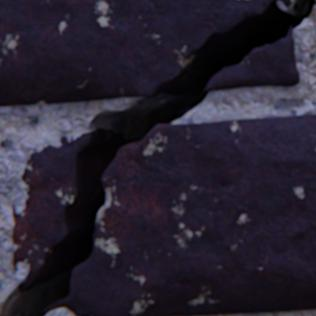broken_brick: (55, 114, 315, 315), (0, 0, 277, 106), (14, 132, 92, 285), (204, 26, 299, 90), (281, 0, 291, 6)
crack: (0, 0, 315, 315)
